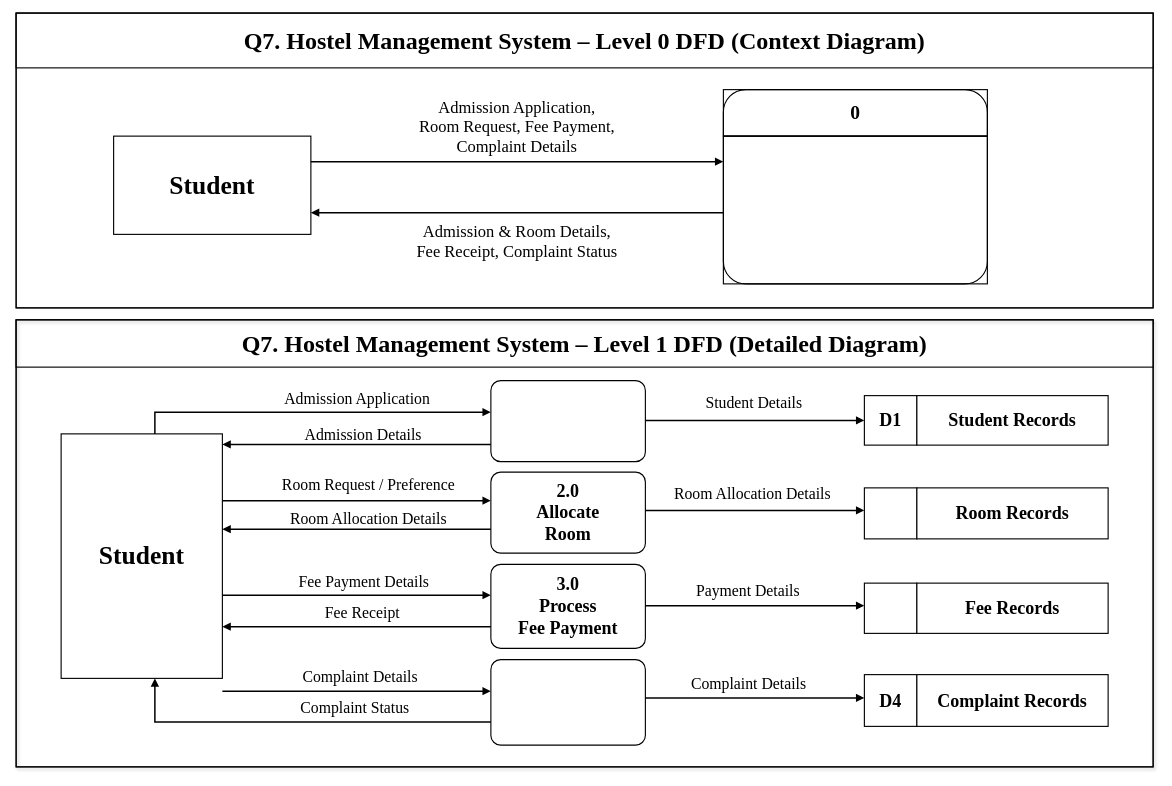
Some shapes in this 1172 by 786 pixel diagram are drawn without their labels. The shapes that lost their labels are listed below. From the top down, each one's centre as x and y in pixels, then its label:
point (855, 209): Hostel Management System
point (568, 421): 1.0 Register Admission
point (890, 513): D2
point (890, 608): D3
point (568, 702): 4.0 Handle Complaints
